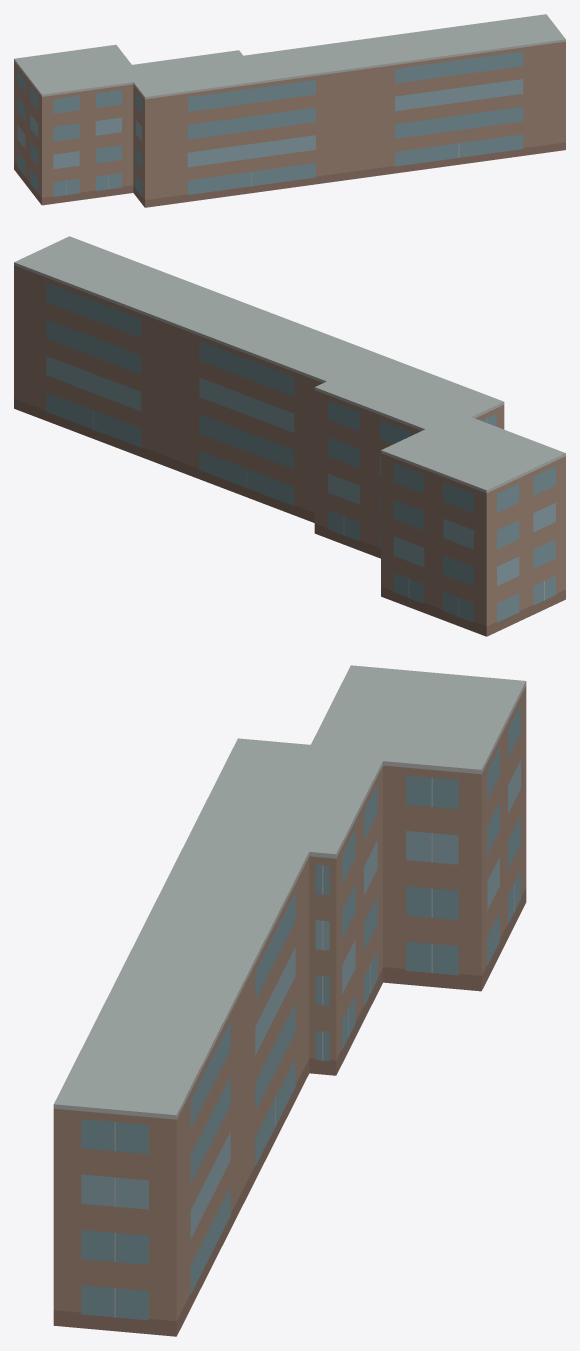
The model's file is survey-upis-32829503.glb.
3 renders of one model, top to bottom at view 1: azimuth 30°, elevation 25°; view 2: azimuth 150°, elevation 25°; view 3: azimuth 270°, elevation 25°, orthographic. The views are drawn at different scales.
Parts seen in each view (by area): view 1: survey-upis-32829503.tmp; view 2: survey-upis-32829503.tmp; view 3: survey-upis-32829503.tmp.
Boxes of the visible parts, box(x1,y1,x2,y2) form: survey-upis-32829503.tmp: box(14, 14, 565, 207); survey-upis-32829503.tmp: box(14, 236, 565, 636); survey-upis-32829503.tmp: box(53, 665, 526, 1336).
Size of the model in its own units: 53.22 by 12.21 by 23.63.
